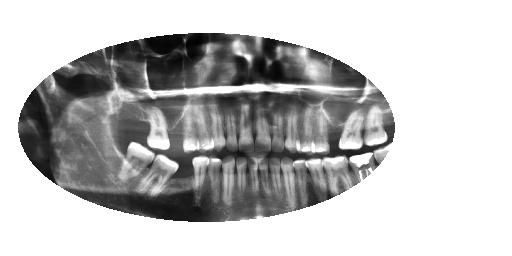Cavity: (238, 101, 254, 154), (254, 106, 270, 155), (222, 154, 236, 201), (236, 155, 246, 205)
